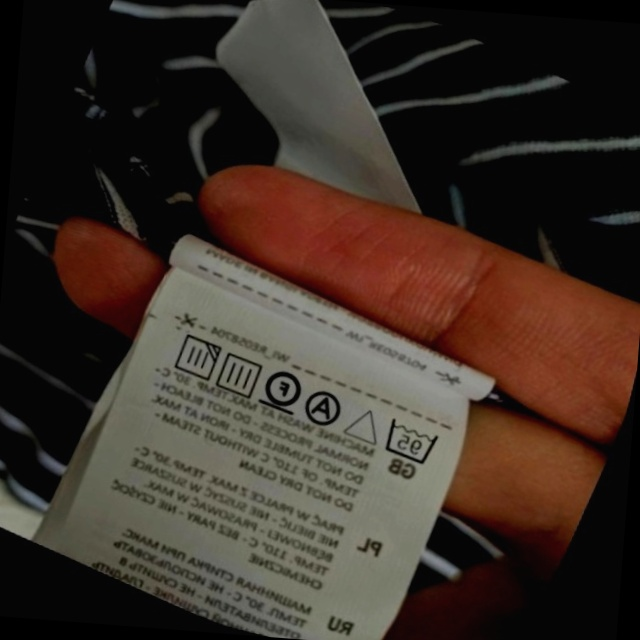95C: (373, 409, 447, 473)
bleach: (339, 395, 392, 452)
drip_dry: (208, 344, 271, 405)
drip_dry_in_shade: (163, 325, 227, 389)
dry_clean: (297, 381, 352, 435)
dry_clean_petrol_only: (253, 358, 312, 421)
